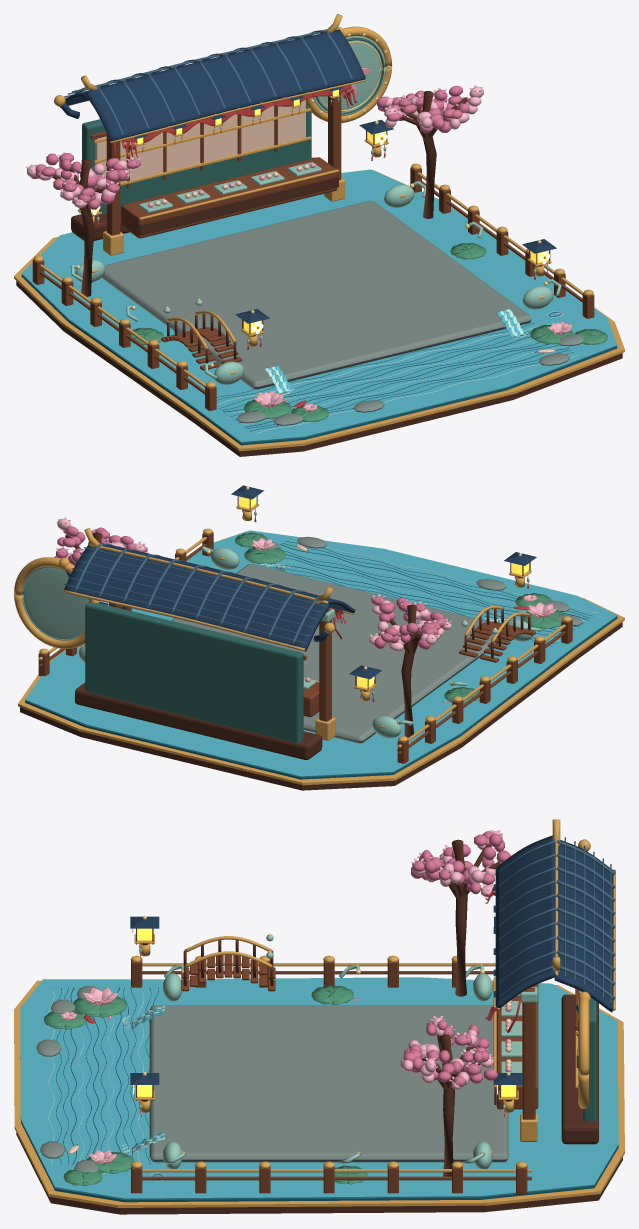
The model's file is environment-nightmarket.glb.
3 views of the same model, one above another, from view 1: azimuth 30°, elevation 25°; view 2: azimuth 150°, elevation 25°; view 3: azimuth 270°, elevation 25° (orthographic). The views are drawn at different scales.
Parts seen in each view (by area): view 1: environment-nightmarket | merged material | 25 | pond edging, environment-nightmarket | merged material | 18 | turquoise r, environment-nightmarket | merged material | 11 | midnight gl, environment-nightmarket | merged material | 04 | warm aged i, environment-nightmarket | merged material | 02 | sculpted ra, environment-nightmarket | merged material | 01 | dark warm l, environment-nightmarket | merged material | 07 | warmly tran, environment-nightmarket | merged material | 09 | mint celado, environment-nightmarket | merged material | 17 | deep teal s, environment-nightmarket | merged material | 10 | jade inset , environment-nightmarket | merged material | 23 | pastel saku, environment-nightmarket | merged material | 24 | soft ivory  (+6 smaller); view 2: environment-nightmarket | merged material | 18 | turquoise r, environment-nightmarket | merged material | 10 | jade inset , environment-nightmarket | merged material | 25 | pond edging, environment-nightmarket | merged material | 11 | midnight gl, environment-nightmarket | merged material | 04 | warm aged i, environment-nightmarket | merged material | 01 | dark warm l, environment-nightmarket | merged material | 02 | sculpted ra, environment-nightmarket | merged material | 09 | mint celado, environment-nightmarket | merged material | 12 | rich porcel, environment-nightmarket | merged material | 17 | deep teal s, environment-nightmarket | merged material | 23 | pastel saku, environment-nightmarket | merged material | 22 | waxy lotus  (+3 smaller); view 3: environment-nightmarket | merged material | 25 | pond edging, environment-nightmarket | merged material | 18 | turquoise r, environment-nightmarket | merged material | 11 | midnight gl, environment-nightmarket | merged material | 04 | warm aged i, environment-nightmarket | merged material | 01 | dark warm l, environment-nightmarket | merged material | 02 | sculpted ra, environment-nightmarket | merged material | 12 | rich porcel, environment-nightmarket | merged material | 23 | pastel saku, environment-nightmarket | merged material | 17 | deep teal s, environment-nightmarket | merged material | 09 | mint celado, environment-nightmarket | merged material | 22 | waxy lotus , environment-nightmarket | merged material | 24 | soft ivory  (+4 smaller).
Part boxes in pixels (bbox=[...]): environment-nightmarket | merged material | 25 | pond edging: bbox=[101, 200, 583, 425]; environment-nightmarket | merged material | 18 | turquoise r: bbox=[21, 169, 617, 442]; environment-nightmarket | merged material | 11 | midnight gl: bbox=[60, 29, 556, 323]; environment-nightmarket | merged material | 04 | warm aged i: bbox=[14, 14, 624, 451]; environment-nightmarket | merged material | 02 | sculpted ra: bbox=[32, 87, 594, 410]; environment-nightmarket | merged material | 01 | dark warm l: bbox=[16, 91, 622, 456]; environment-nightmarket | merged material | 07 | warmly tran: bbox=[95, 99, 555, 408]; environment-nightmarket | merged material | 09 | mint celado: bbox=[70, 36, 561, 384]; environment-nightmarket | merged material | 17 | deep teal s: bbox=[21, 274, 617, 445]; environment-nightmarket | merged material | 10 | jade inset : bbox=[82, 38, 604, 409]; environment-nightmarket | merged material | 23 | pastel saku: bbox=[30, 85, 561, 401]; environment-nightmarket | merged material | 24 | soft ivory : bbox=[26, 85, 570, 411]; environment-nightmarket | merged material | 18 | turquoise r: bbox=[25, 530, 617, 776]; environment-nightmarket | merged material | 10 | jade inset : bbox=[85, 536, 522, 743]; environment-nightmarket | merged material | 25 | pond edging: bbox=[171, 536, 582, 743]; environment-nightmarket | merged material | 11 | midnight gl: bbox=[64, 485, 536, 679]; environment-nightmarket | merged material | 04 | warm aged i: bbox=[14, 503, 624, 785]; environment-nightmarket | merged material | 01 | dark warm l: bbox=[20, 532, 622, 790]; environment-nightmarket | merged material | 02 | sculpted ra: bbox=[38, 486, 572, 763]; environment-nightmarket | merged material | 09 | mint celado: bbox=[22, 509, 541, 738]; environment-nightmarket | merged material | 12 | rich porcel: bbox=[64, 543, 330, 644]; environment-nightmarket | merged material | 17 | deep teal s: bbox=[25, 541, 617, 779]; environment-nightmarket | merged material | 23 | pastel saku: bbox=[54, 526, 519, 702]; environment-nightmarket | merged material | 22 | waxy lotus : bbox=[235, 532, 564, 703]; environment-nightmarket | merged material | 25 | pond edging: bbox=[36, 986, 508, 1172]; environment-nightmarket | merged material | 18 | turquoise r: bbox=[20, 977, 618, 1198]; environment-nightmarket | merged material | 11 | midnight gl: bbox=[130, 835, 613, 1084]; environment-nightmarket | merged material | 04 | warm aged i: bbox=[14, 819, 624, 1207]; environment-nightmarket | merged material | 01 | dark warm l: bbox=[16, 839, 622, 1214]; environment-nightmarket | merged material | 02 | sculpted ra: bbox=[131, 917, 579, 1194]; environment-nightmarket | merged material | 12 | rich porcel: bbox=[497, 837, 615, 1003]; environment-nightmarket | merged material | 23 | pastel saku: bbox=[108, 831, 511, 1180]; environment-nightmarket | merged material | 17 | deep teal s: bbox=[20, 987, 618, 1202]; environment-nightmarket | merged material | 09 | mint celado: bbox=[139, 935, 537, 1168]; environment-nightmarket | merged material | 22 | waxy lotus : bbox=[44, 985, 367, 1185]; environment-nightmarket | merged material | 24 | soft ivory : bbox=[63, 830, 513, 1163].
Size of the model in its own units: 8.84 by 3.81 by 9.81.
